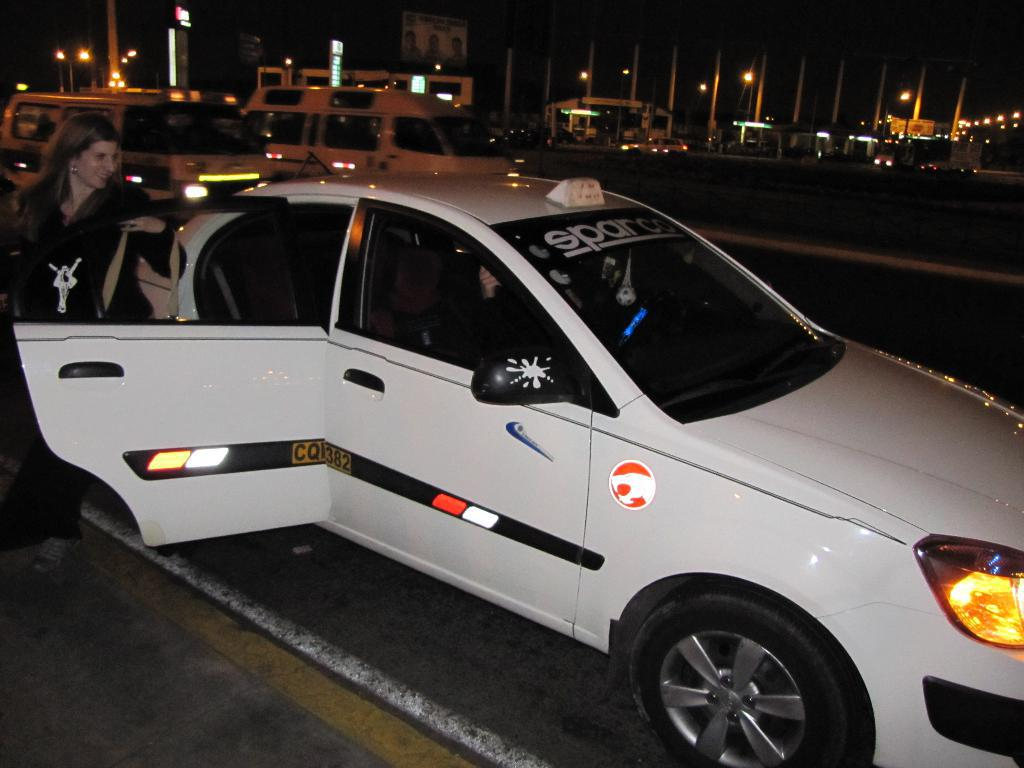taxi: (8, 152, 1024, 768)
